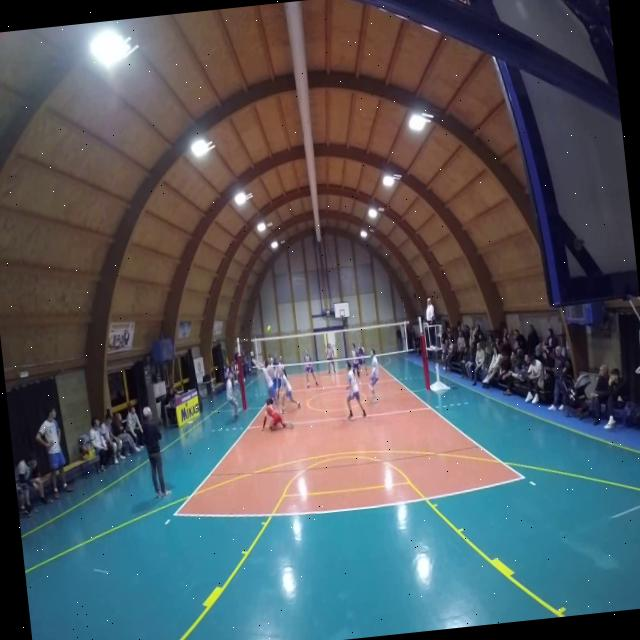Volleyball: (264, 321, 274, 335)
